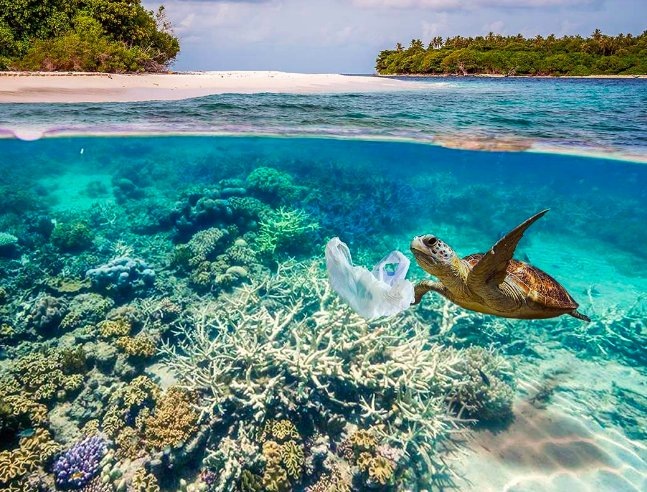litter: (298, 226, 425, 325)
